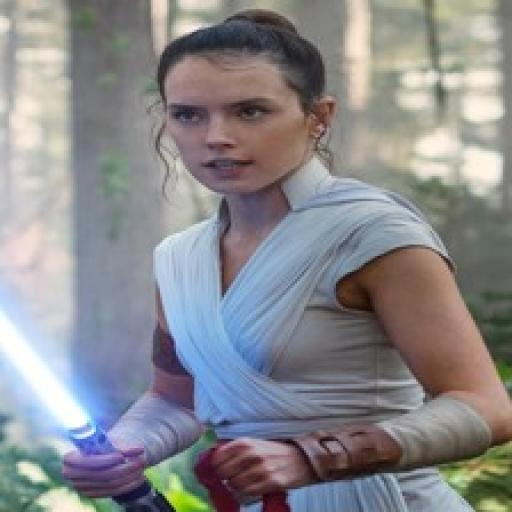human: (55, 5, 512, 512)
lightsaber: (2, 305, 172, 512)
